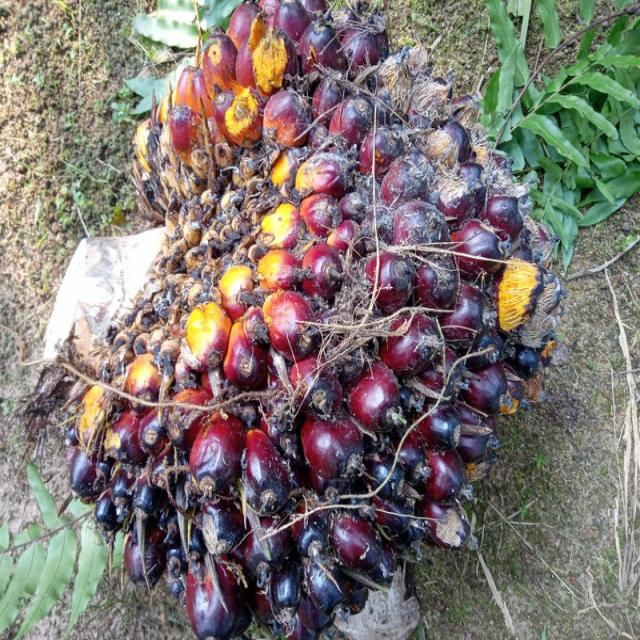fraksi 1: (70, 17, 597, 640)
